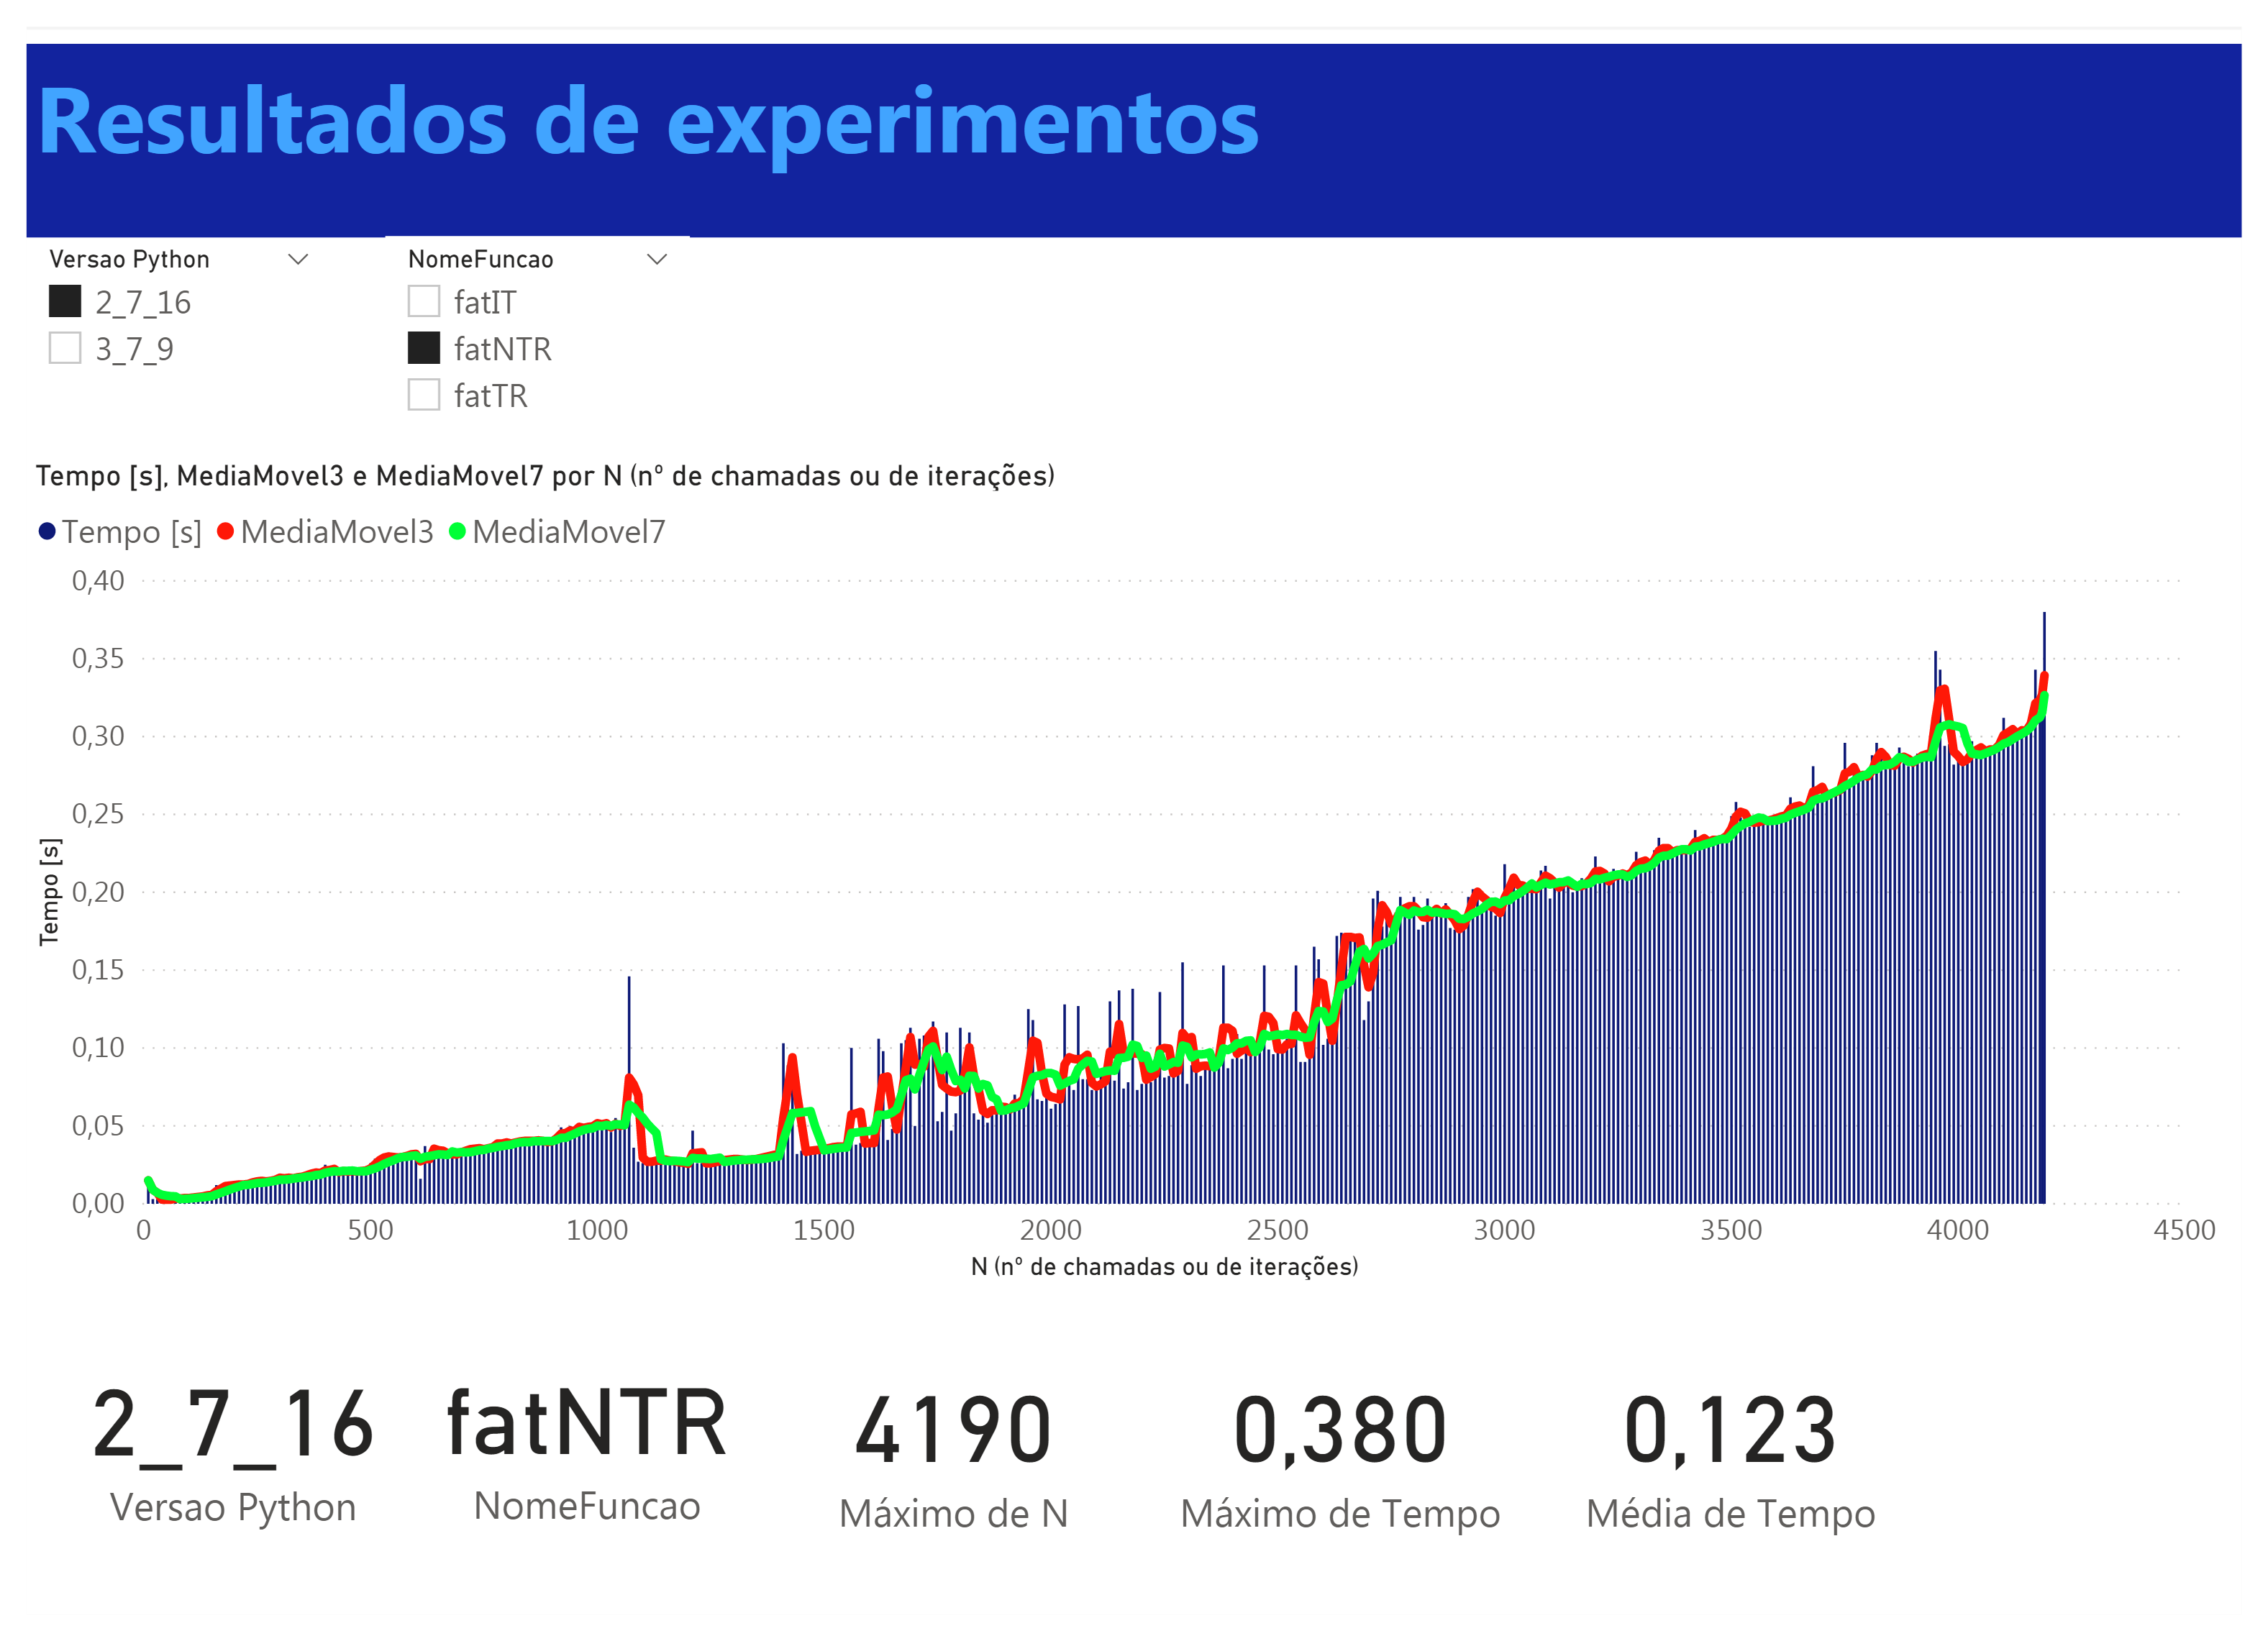

This screenshot's page, from the dashboard's own definition file:
{"tool":"powerbi","page":{"name":"Texto","canvas":[1280,900],"ordinal":6},"visuals":[{"type":"card","fields":{"Values":["Max(Tabela1.Tempo)"]},"box":[576,744,216,120],"z":0},{"type":"card","fields":{"Values":["Min(Tabela1.NomeFuncao)"]},"box":[192,704,208,192],"z":1000},{"type":"card","fields":{"Values":["Max(Tabela1.N)"]},"box":[400,704,160,192],"z":2000},{"type":"card","fields":{"Values":["Avg(Tabela1.Tempo)"]},"box":[792,720,216,168],"z":3000},{"type":"slicer","fields":{"Values":["Tabela1.Versao Python"]},"box":[0,112,176,112],"z":4000},{"type":"card","fields":{"Values":["Min(Tabela1.Versao Python)"]},"box":[0,704,192,192],"z":5000},{"type":"textbox","box":[0,0,1280,112],"z":6000},{"type":"slicer","fields":{"Values":["Tabela1.NomeFuncao"]},"box":[192,112,176,112],"z":7000},{"type":"lineClusteredColumnComboChart","fields":{"Y":["Sum(Tabela1.Tempo)"],"Category":["Tabela1.N"],"Y2":["Tabela1.MediaMovel3","Tabela1.MediaMovel7"]},"box":[0,224,1248,480],"z":8000}]}

Visuals, with their boxes in screenshot pixels (x1, y1, x2, y2), scaled from the page's 1280x900 canvas onto the 2268x1641 screenshot:
card - Max(Tabela1.Tempo): region(1021, 1356, 1403, 1576)
card - Min(Tabela1.NomeFuncao): region(340, 1284, 709, 1634)
card - Max(Tabela1.N): region(709, 1284, 992, 1634)
card - Avg(Tabela1.Tempo): region(1403, 1313, 1786, 1619)
slicer - Tabela1.Versao Python: region(0, 204, 312, 408)
card - Min(Tabela1.Versao Python): region(0, 1284, 340, 1634)
textbox: region(0, 0, 2267, 204)
slicer - Tabela1.NomeFuncao: region(340, 204, 652, 408)
lineClusteredColumnComboChart - Sum(Tabela1.Tempo) x Tabela1.N: region(0, 408, 2211, 1284)
